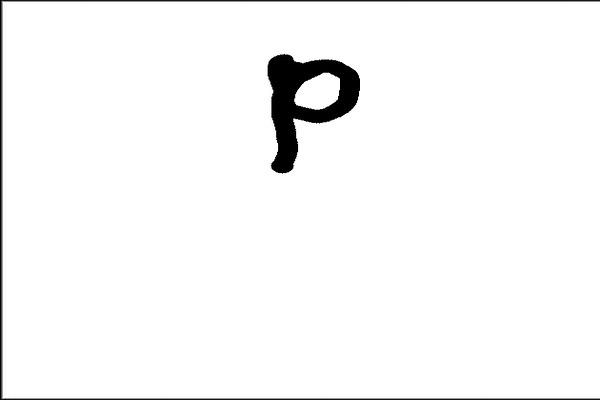P: (256, 41, 364, 192)
